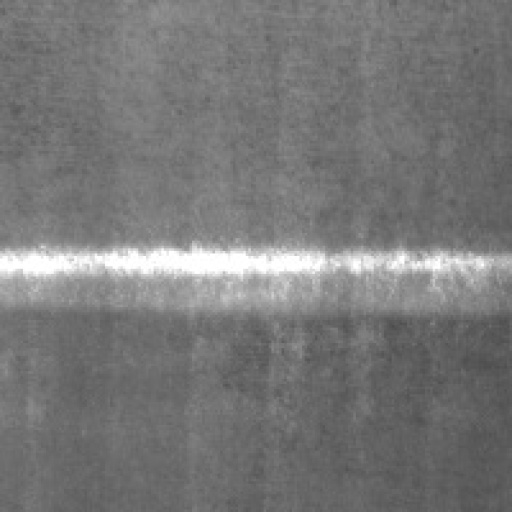scratches: (0, 236, 510, 329)
